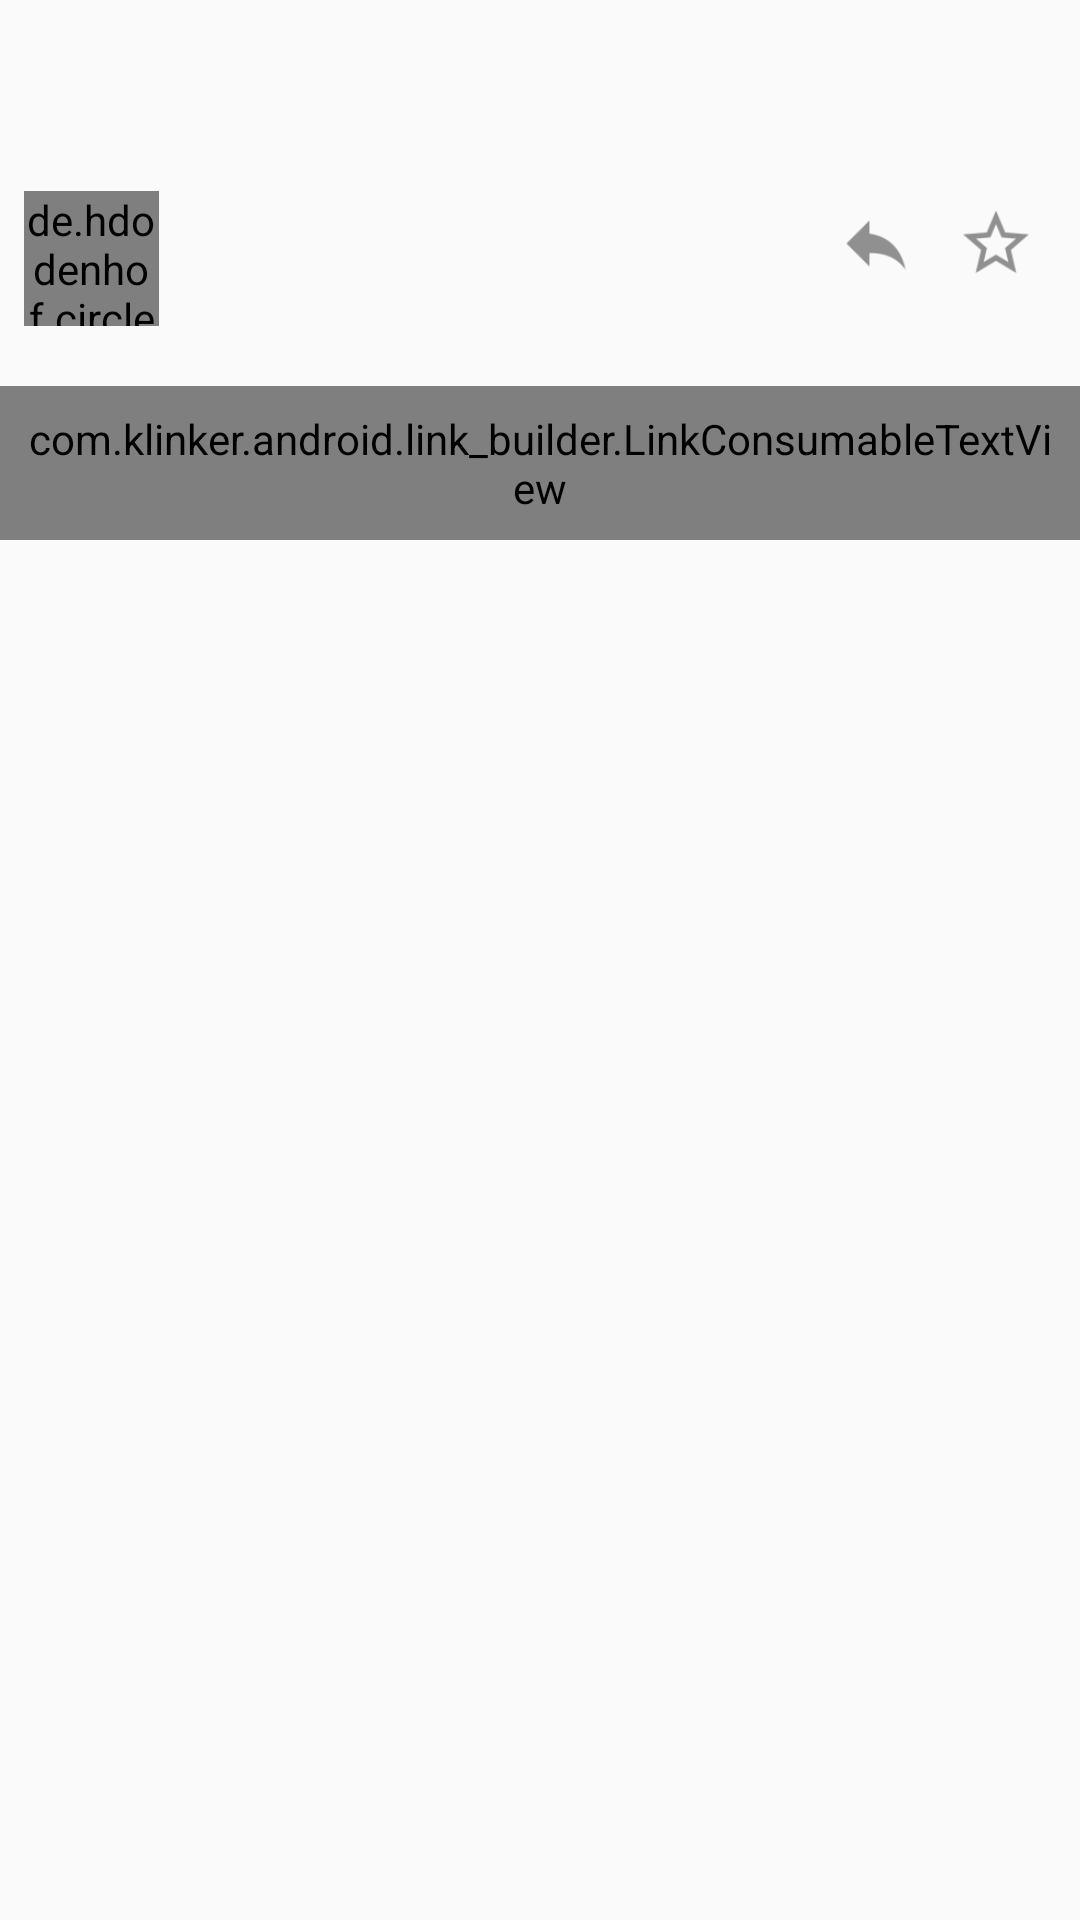

Screen size 1080x1920. Icon name, then its box in pixels as (x1, y1, x2, y2):
reply: (846, 221, 906, 269)
star border: (964, 211, 1028, 273)
